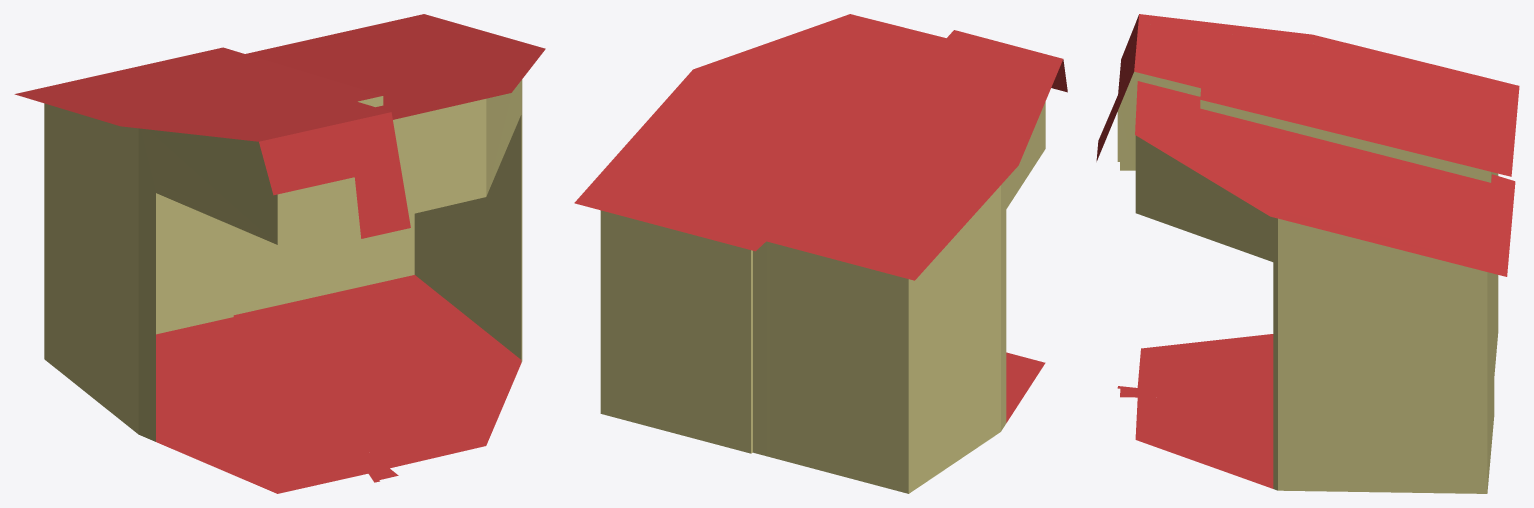
3 views of the same model, side by side, from view 1: azimuth 30°, elevation 25°; view 2: azimuth 150°, elevation 25°; view 3: azimuth 270°, elevation 25° (orthographic). The views are drawn at different scales.
Visible parts, largest first — view 1: group_5, group_9, group_10, group_6, group_3, group_7, group_4; view 2: group_5, group_3, group_7, group_9, group_4, group_8, group_6; view 3: group_9, group_7, group_3, group_6, group_10, group_5, group_4, group_8.
Part boxes in pixels (<box>): group_5: <box>44,96,383,441</box>; group_9: <box>233,79,522,362</box>; group_10: <box>233,275,521,468</box>; group_6: <box>156,317,398,493</box>; group_3: <box>14,48,410,237</box>; group_7: <box>245,14,545,119</box>; group_4: <box>119,47,410,238</box>; group_5: <box>753,102,1045,493</box>; group_3: <box>744,30,1067,280</box>; group_7: <box>574,14,946,251</box>; group_9: <box>600,210,752,453</box>; group_4: <box>743,35,1062,267</box>; group_8: <box>604,15,866,250</box>; group_6: <box>1006,352,1045,422</box>; group_9: <box>1135,135,1494,493</box>; group_7: <box>1135,81,1515,276</box>; group_3: <box>1097,23,1519,175</box>; group_6: <box>1117,334,1273,410</box>; group_10: <box>1135,397,1273,488</box>; group_5: <box>1117,71,1498,375</box>; group_4: <box>1096,14,1518,176</box>; group_8: <box>1135,124,1514,255</box>.
Size of the model in its own units: 15.82 by 15.51 by 13.17.
